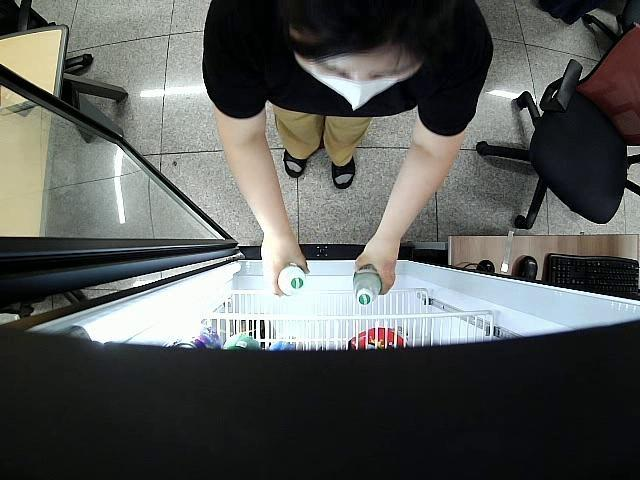18_trevi: (353, 267, 383, 310), (276, 267, 313, 297)
